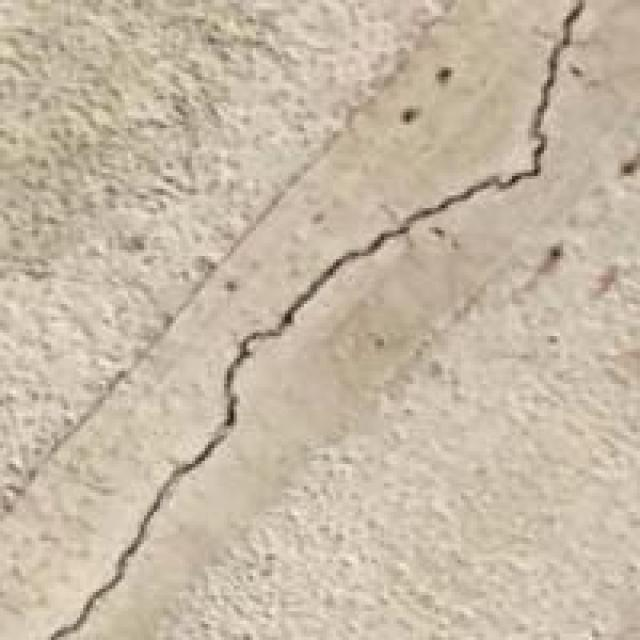Crack: (39, 0, 586, 637)
